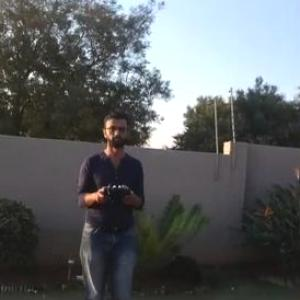follow: (71, 105, 149, 299)
